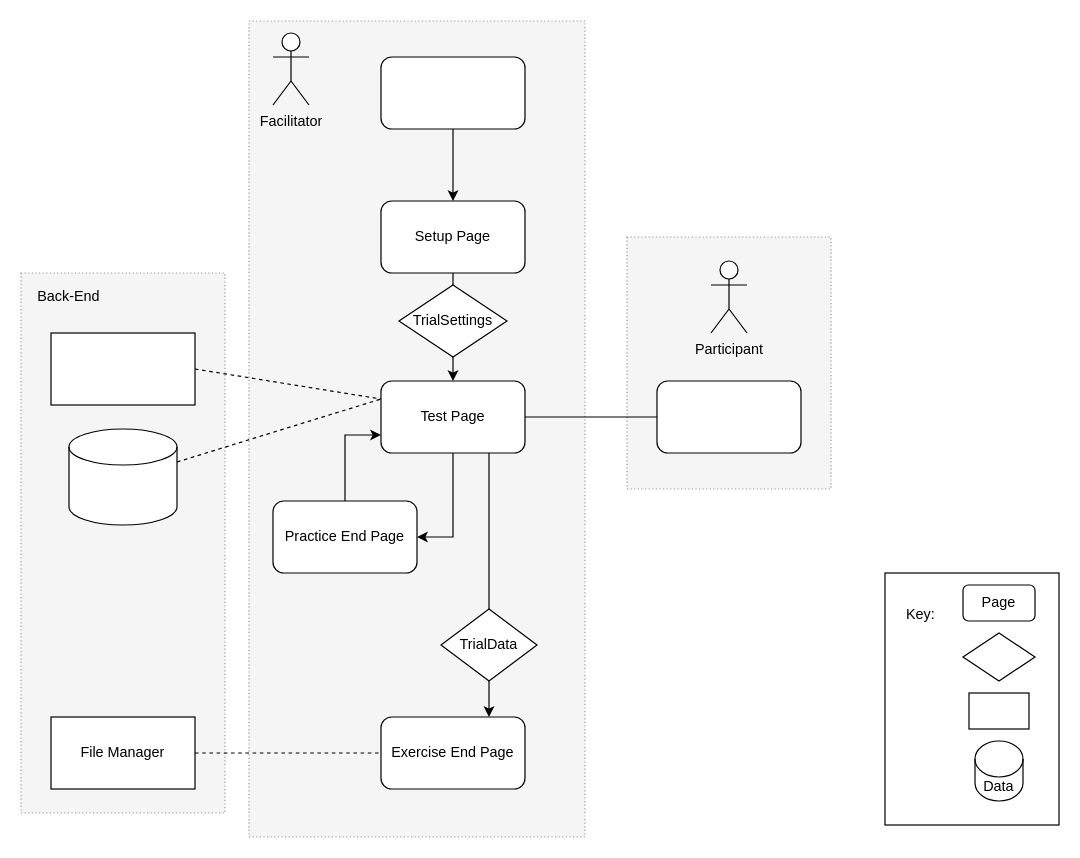
Image size: 1080x858. Some labels were removed from this diagram. The box of each missing label's shape, as (x1, y1, x2, y2) in pixels:
AudioManager: (50, 332, 195, 405)
Class: (968, 692, 1029, 729)
Exercise Store: (68, 428, 177, 525)
Object: (962, 632, 1035, 681)
Participant Exercise Page: (656, 380, 801, 453)
Start Page: (380, 56, 525, 129)
